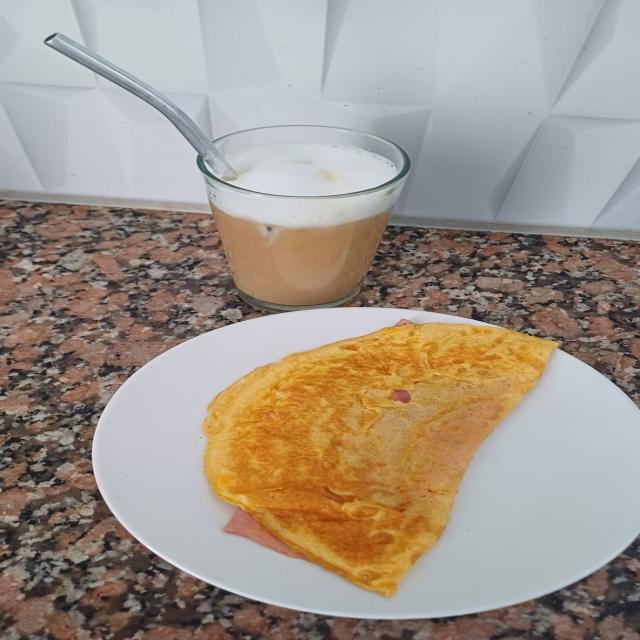omelette: (205, 324, 556, 595)
